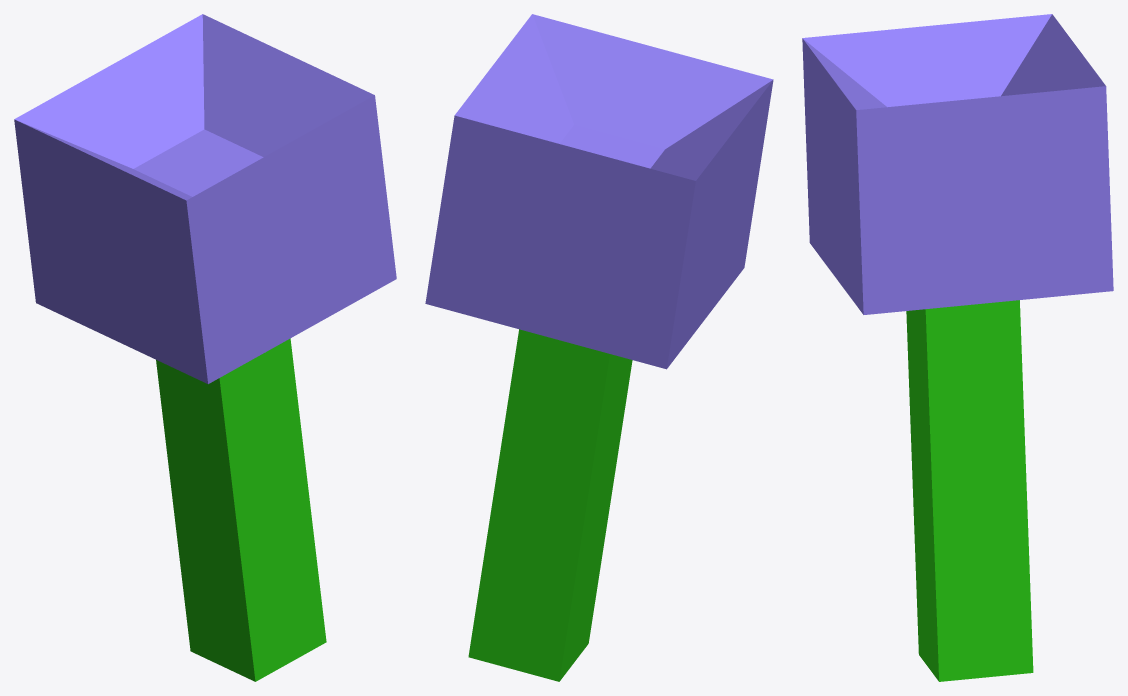
File: tulip_ungu.fbx
3 views of the same model, side by side, from view 1: azimuth 30°, elevation 25°; view 2: azimuth 150°, elevation 25°; view 3: azimuth 270°, elevation 25° (orthographic).
Parts seen in each view (by area): view 1: Cube.079; view 2: Cube.079; view 3: Cube.079.
Part boxes in pixels (x1=…): Cube.079: x1=14, y1=14, x2=396, y2=681; Cube.079: x1=425, y1=14, x2=773, y2=681; Cube.079: x1=802, y1=14, x2=1113, y2=681.
Size of the model in its own units: 25.65 by 50.12 by 24.02.
1 material, 1 textured.
